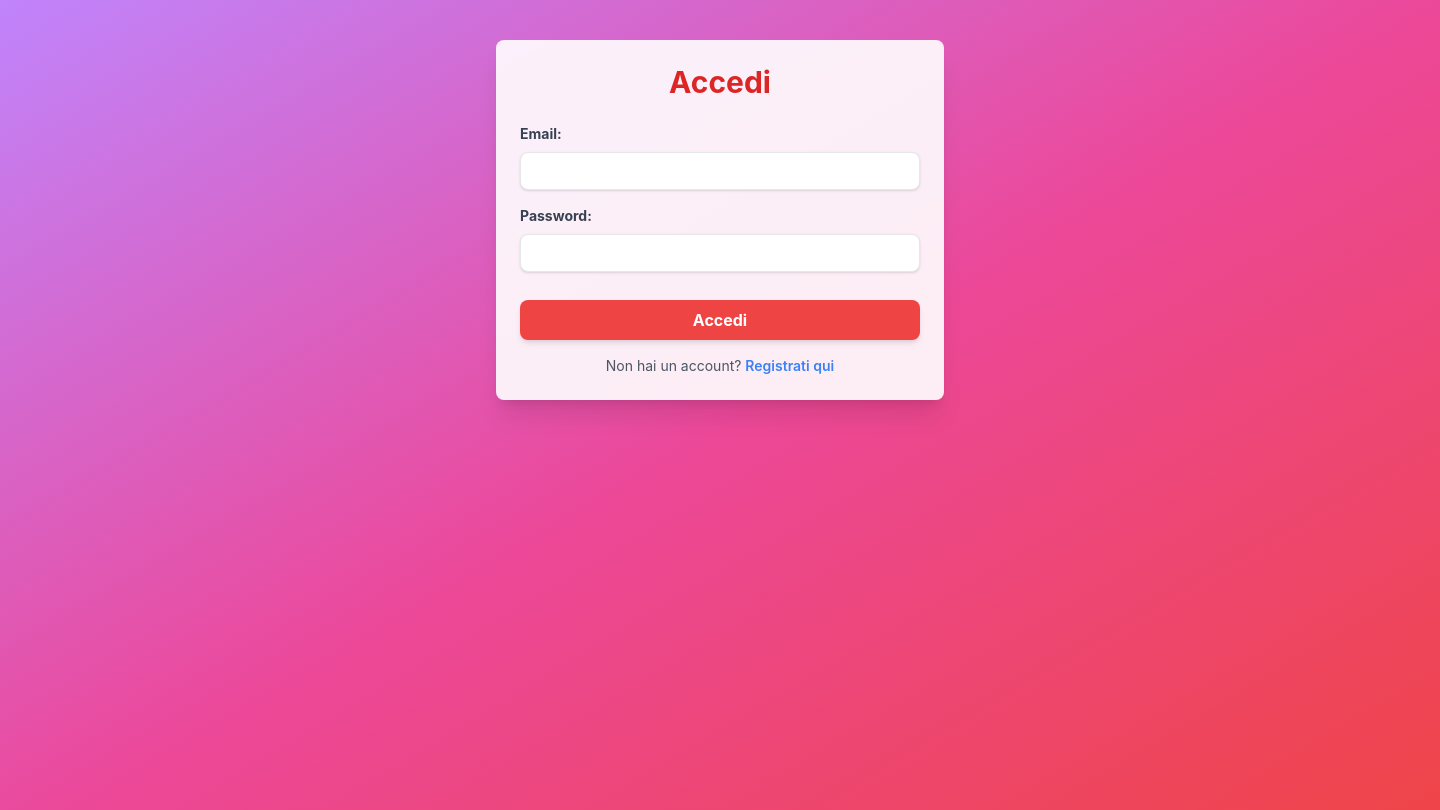
Test: Auth Component › switches to registration form when clicking register link
Click the button "Registrati qui": (790,366) [745,356,834,376]
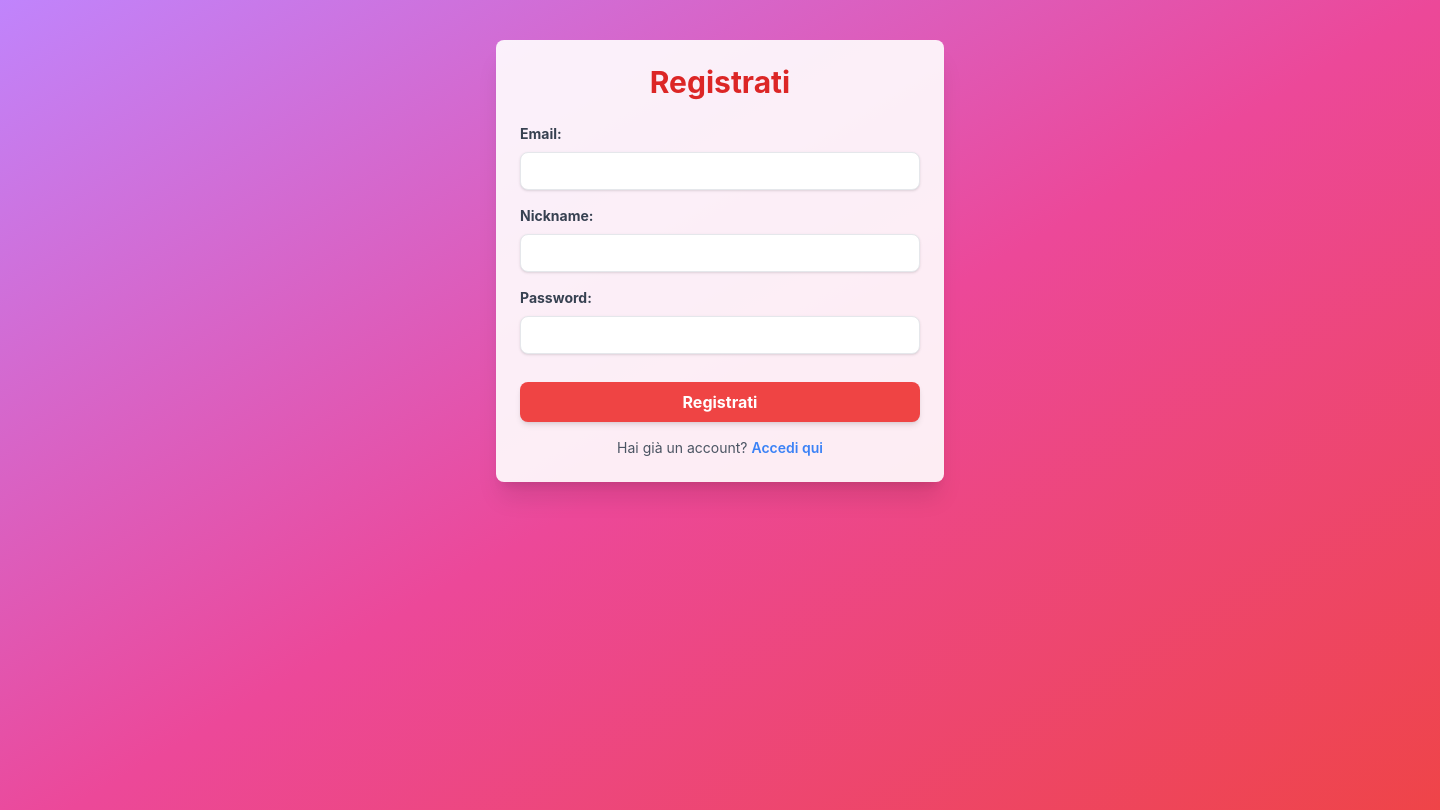
Check: the field labelled "Nickname:" is shown, box [520,234,920,272]
Check: the heading "Registrati" is shown, box [650,64,790,100]
